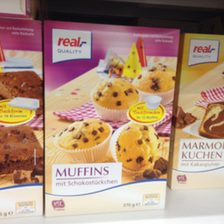cake: (43, 16, 181, 220), (171, 23, 224, 191)
